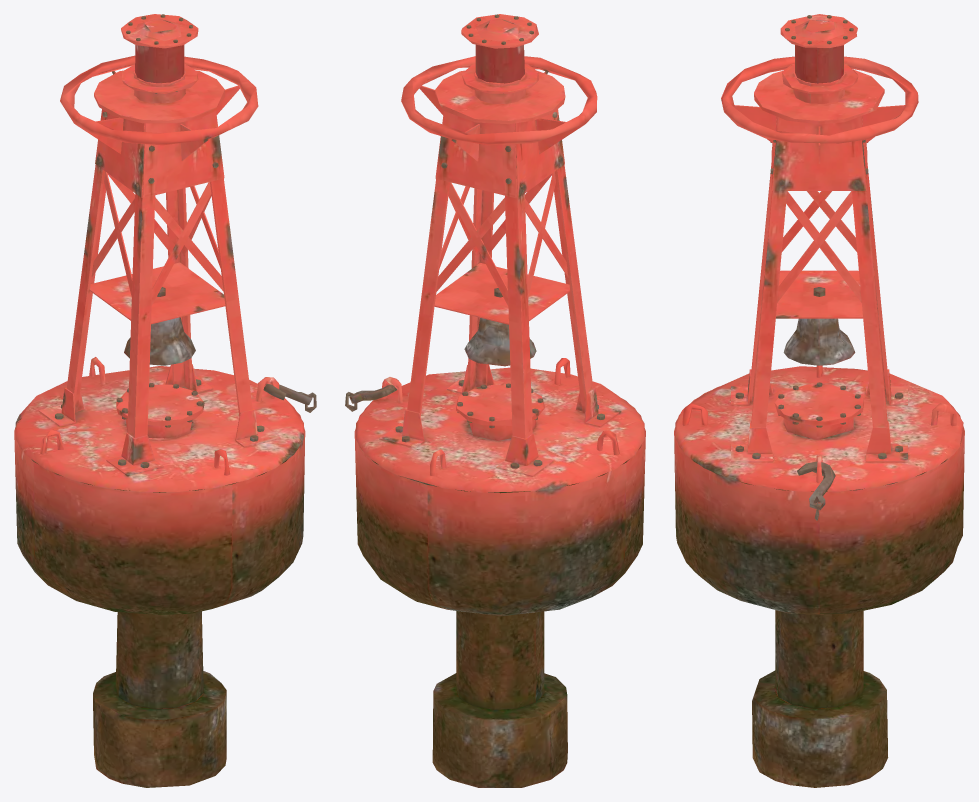
The model's file is ocean_buoy.glb.
3 renders of one model, left to right at view 1: azimuth 30°, elevation 25°; view 2: azimuth 150°, elevation 25°; view 3: azimuth 270°, elevation 25°, orthographic.
Parts seen in each view (by area): view 1: ocean_buoy; view 2: ocean_buoy; view 3: ocean_buoy.
Boxes of the visible parts, <box> form: ocean_buoy: <box>14,14,316,787</box>; ocean_buoy: <box>345,14,645,787</box>; ocean_buoy: <box>674,14,964,787</box>.
Size of the model in its own units: 1.06 by 2.65 by 0.9523.
1 material, 1 textured.
